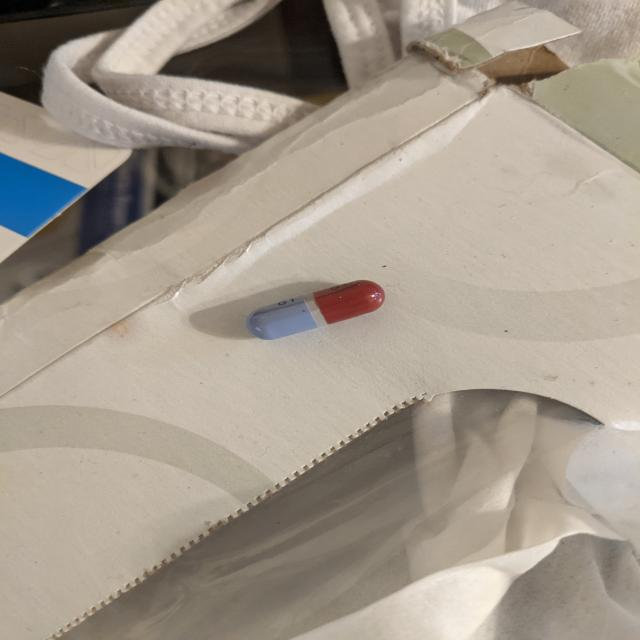non-organic waste: (244, 278, 387, 341)
